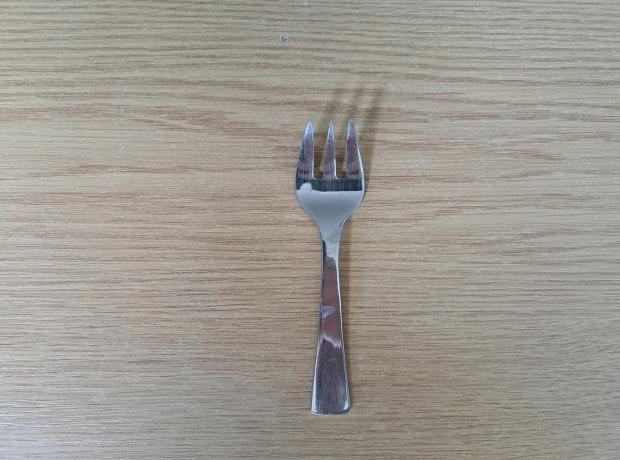metal: (295, 120, 368, 417)
